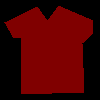abbigliamento_uomo: (4, 5, 93, 94)
